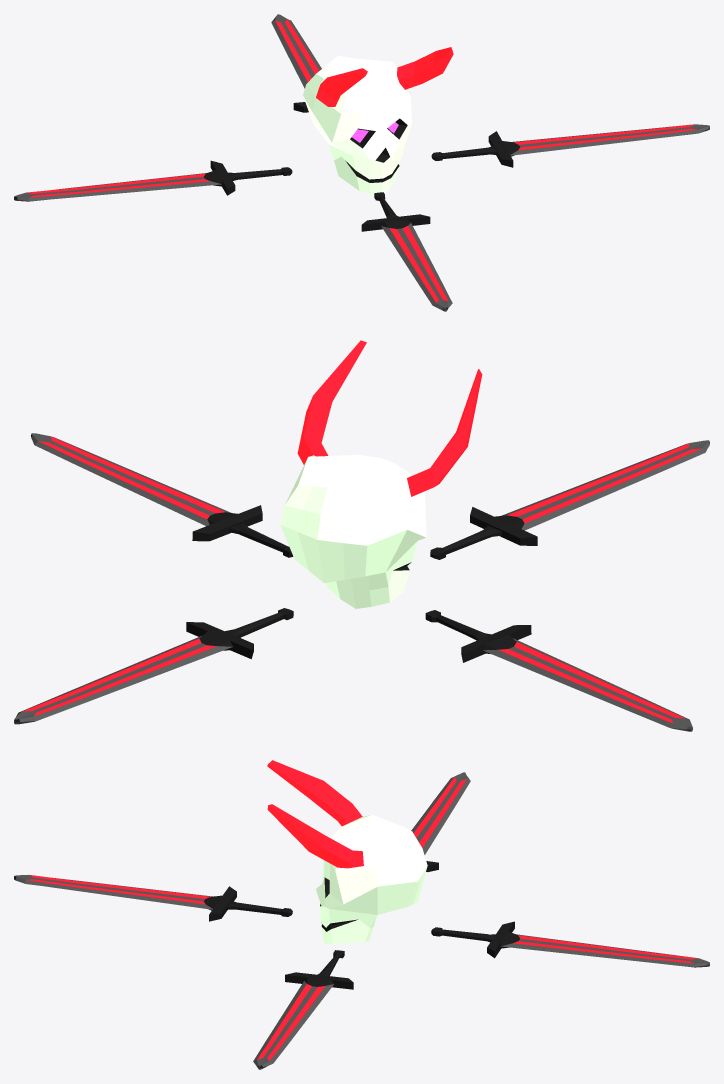
File: sword skull.fbx
The picture shows the model from 3 angles, top to bottom: view 1: azimuth 30°, elevation 25°; view 2: azimuth 150°, elevation 25°; view 3: azimuth 270°, elevation 25°; orthographic projection. The views are drawn at different scales.
Parts seen in each view (by area): view 1: Cube; view 2: Cube; view 3: Cube.
Boxes of the visible parts, <box> form: Cube: <box>14,14,709,311</box>; Cube: <box>14,340,709,731</box>; Cube: <box>14,760,709,1069</box>.
Size of the model in its own units: 307 by 78.65 by 307.
